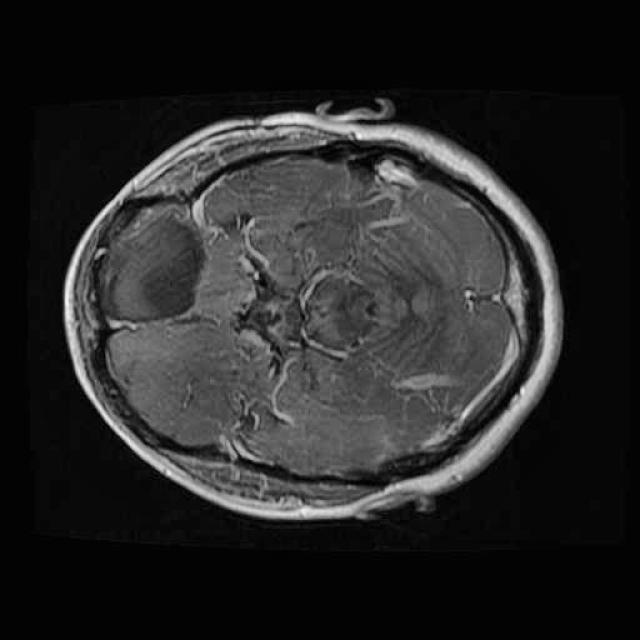Non-Tumor: (88, 192, 216, 336)
